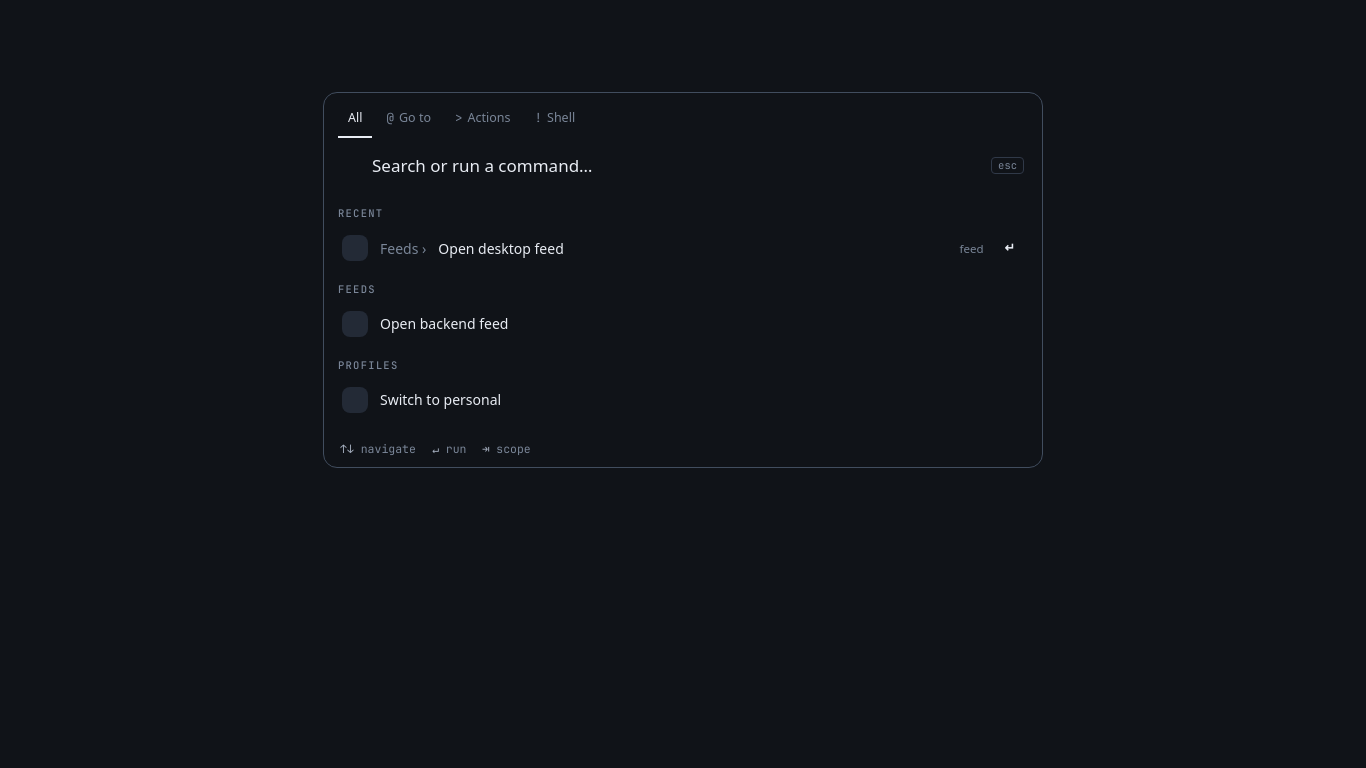
Test: CommandPalette › hides the Recent section once the query is non-empty
Type "open" into the field with test id "command-palette-input".
click(676, 166); type("open")  # box [372,153,979,178]
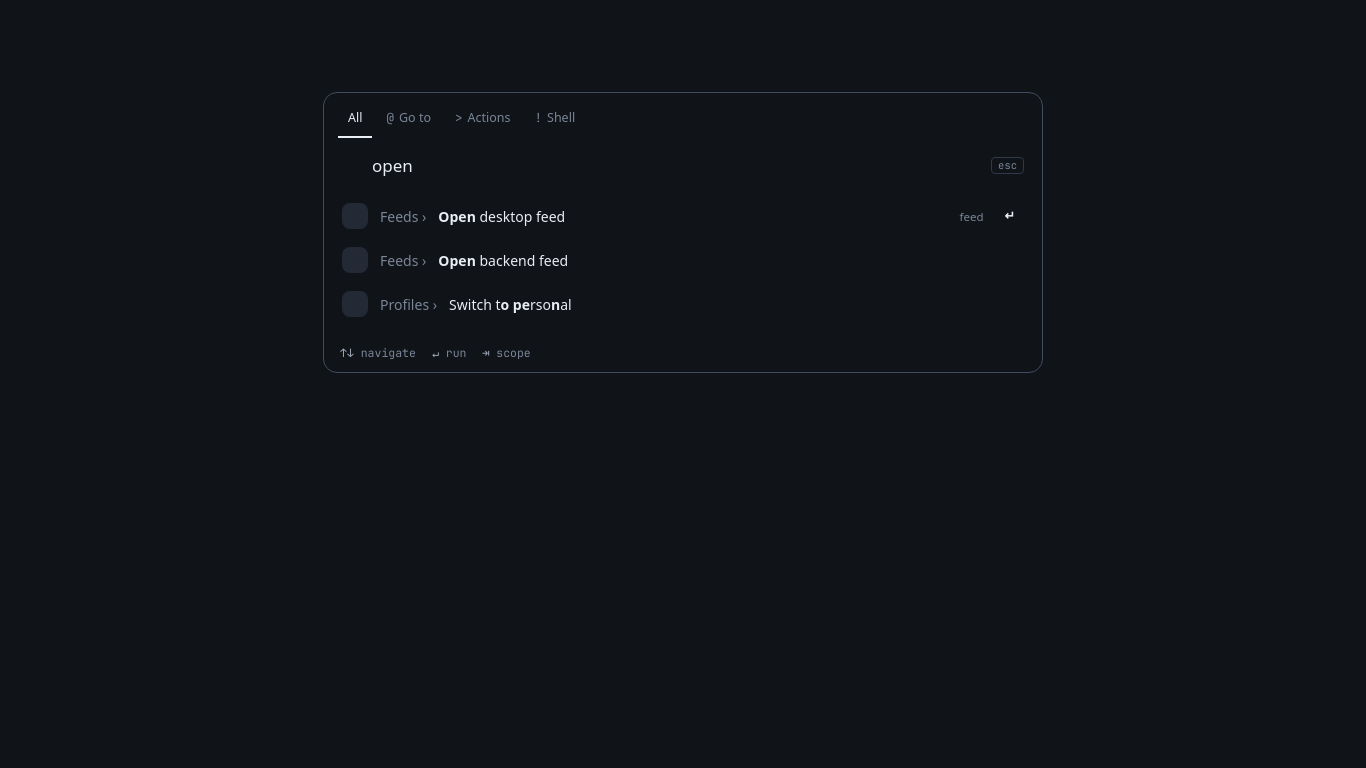
Expected: the text "Recent" is gone
